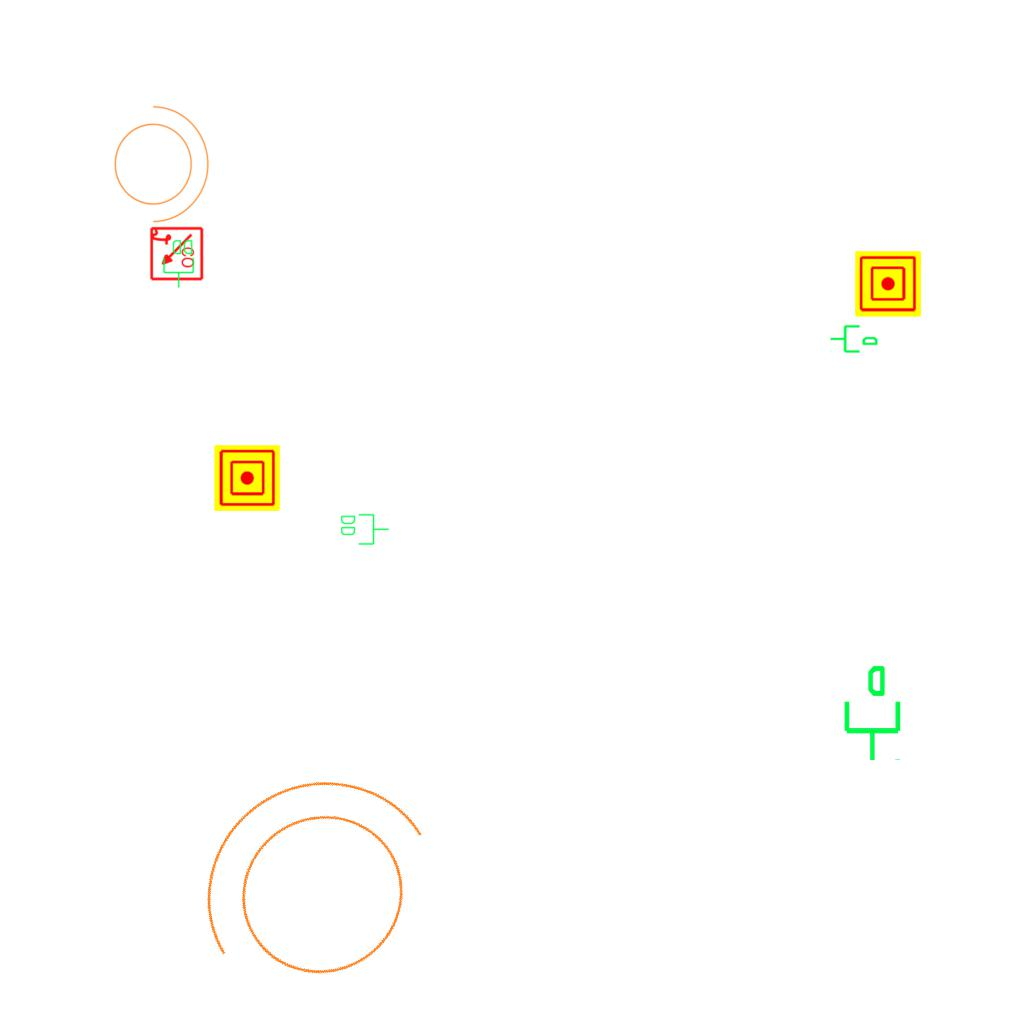Datenanschluss_einfach: (836, 663, 905, 763), (829, 321, 879, 355)
Datenanschluss_zweifach: (339, 512, 390, 546), (162, 238, 196, 289)
NAM-Nichtautomatischer_Melder: (855, 251, 921, 317), (214, 445, 280, 511)
ROA_Rauchmelder_optisch_mit_Signalgeber_(Sockelsirene): (148, 226, 204, 282)
Scheinwerfer_fuer_Alarmbeleuchtung: (140, 725, 484, 1024), (102, 95, 214, 227)
